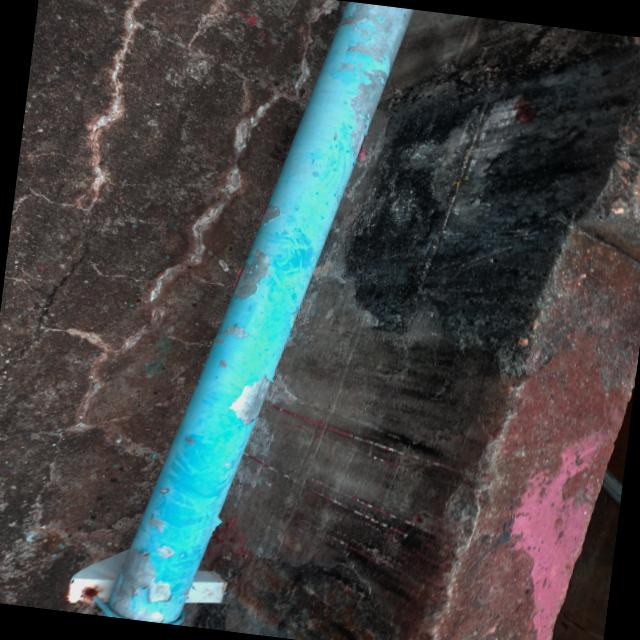gas: (95, 0, 419, 640)
